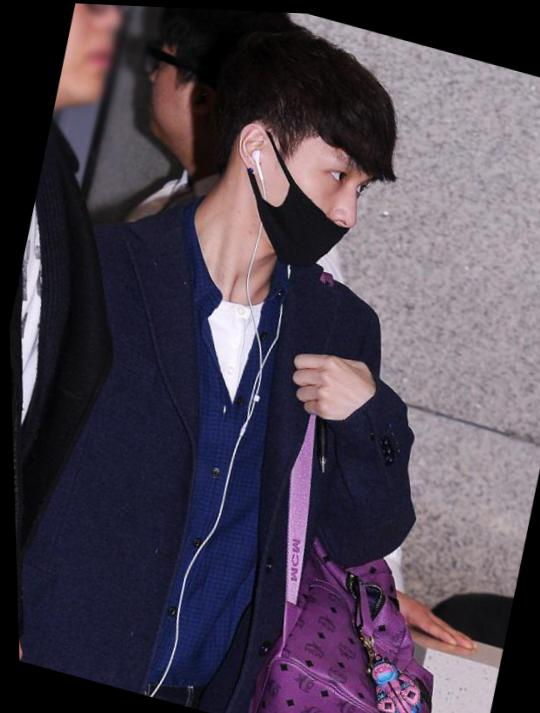NONE: (127, 15, 242, 157), (52, 3, 148, 124)
WRONG: (216, 110, 387, 283)
